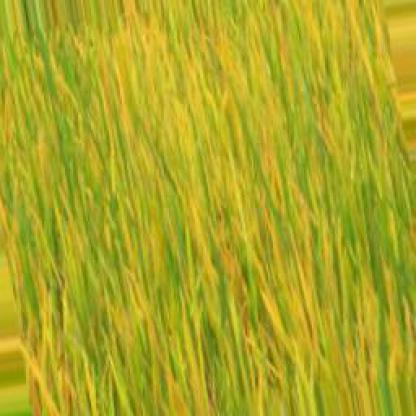Tungro: (3, 1, 413, 412)
